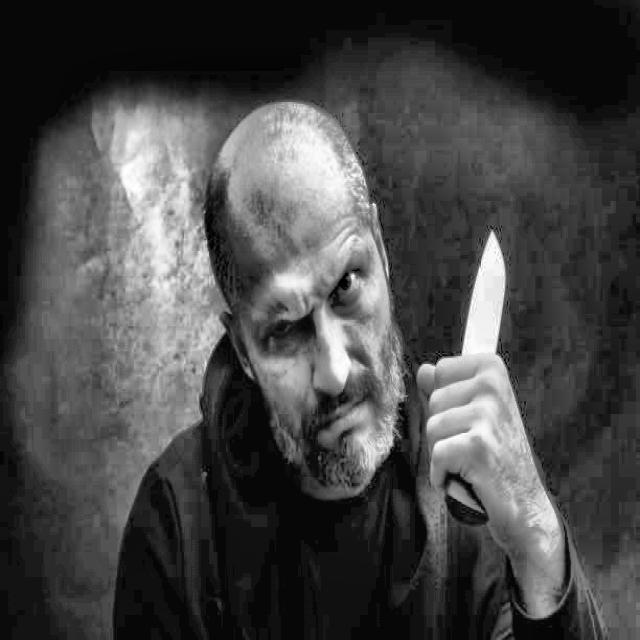pisau: (425, 214, 512, 530)
